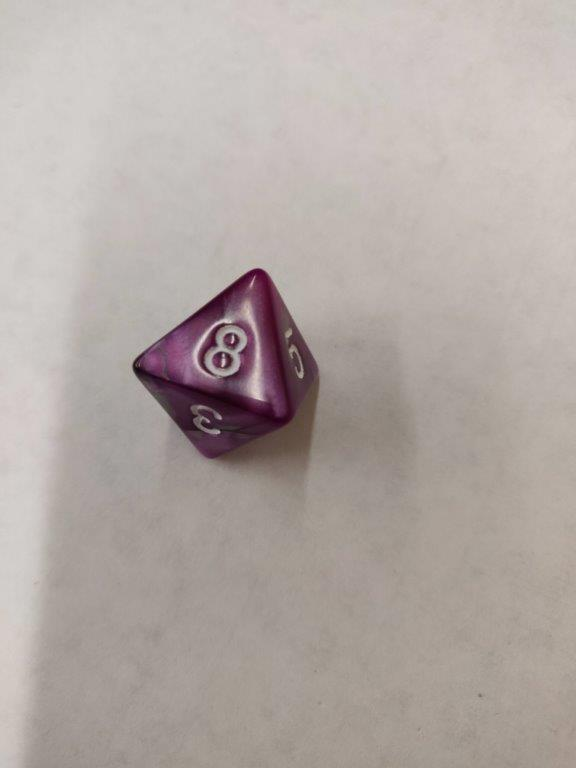d8-8: (134, 267, 318, 465)
